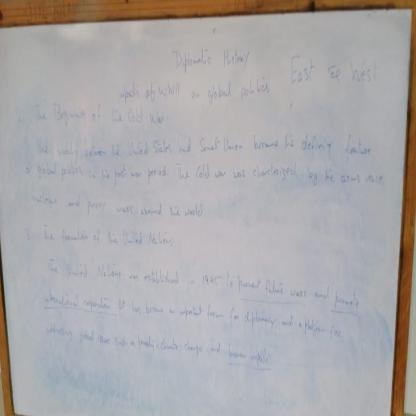Handwritten text: (39, 285, 347, 346), (74, 322, 279, 377), (30, 161, 390, 188), (33, 130, 376, 158), (218, 261, 364, 323), (29, 189, 210, 223), (42, 253, 181, 288), (40, 221, 177, 252), (30, 98, 168, 127), (115, 76, 274, 101), (169, 42, 254, 74), (348, 45, 381, 90), (290, 50, 315, 91)
Whiteboard: (0, 9, 415, 416)
